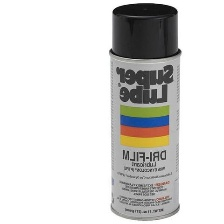aerosol_cans: (103, 2, 184, 222)
